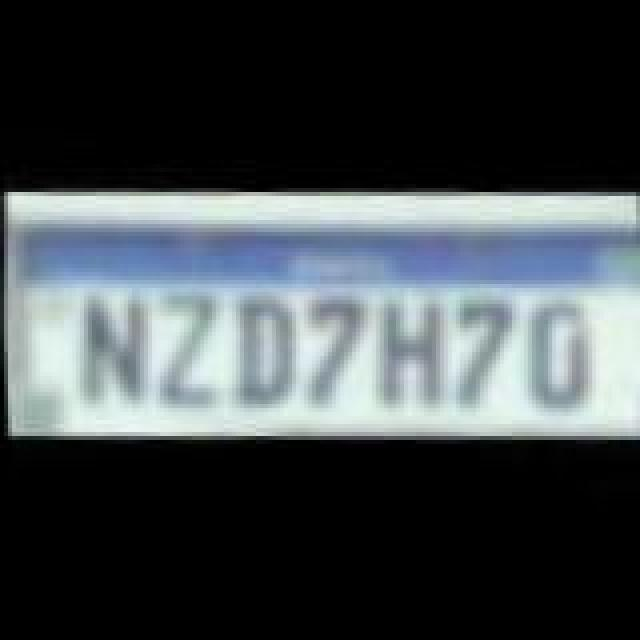7: (296, 288, 368, 416), (446, 298, 514, 414)
D: (516, 292, 596, 416), (230, 288, 298, 412)
H: (372, 288, 452, 416)
N: (70, 288, 142, 412)
Z: (150, 284, 222, 408)
